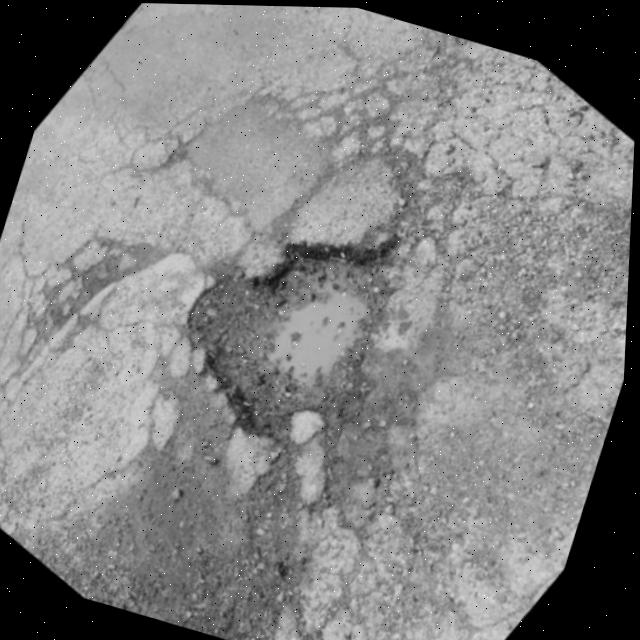Pothole: (165, 203, 428, 471), (0, 228, 195, 501), (248, 22, 502, 177)
